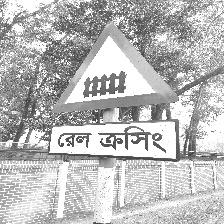Rail-crossing: (48, 21, 181, 162)
